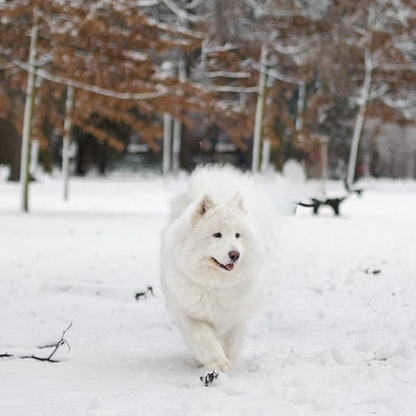samoyed: (143, 160, 270, 391)
